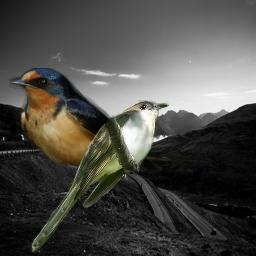Cuckoo: (29, 99, 169, 256)
Swallow: (9, 68, 216, 171)
